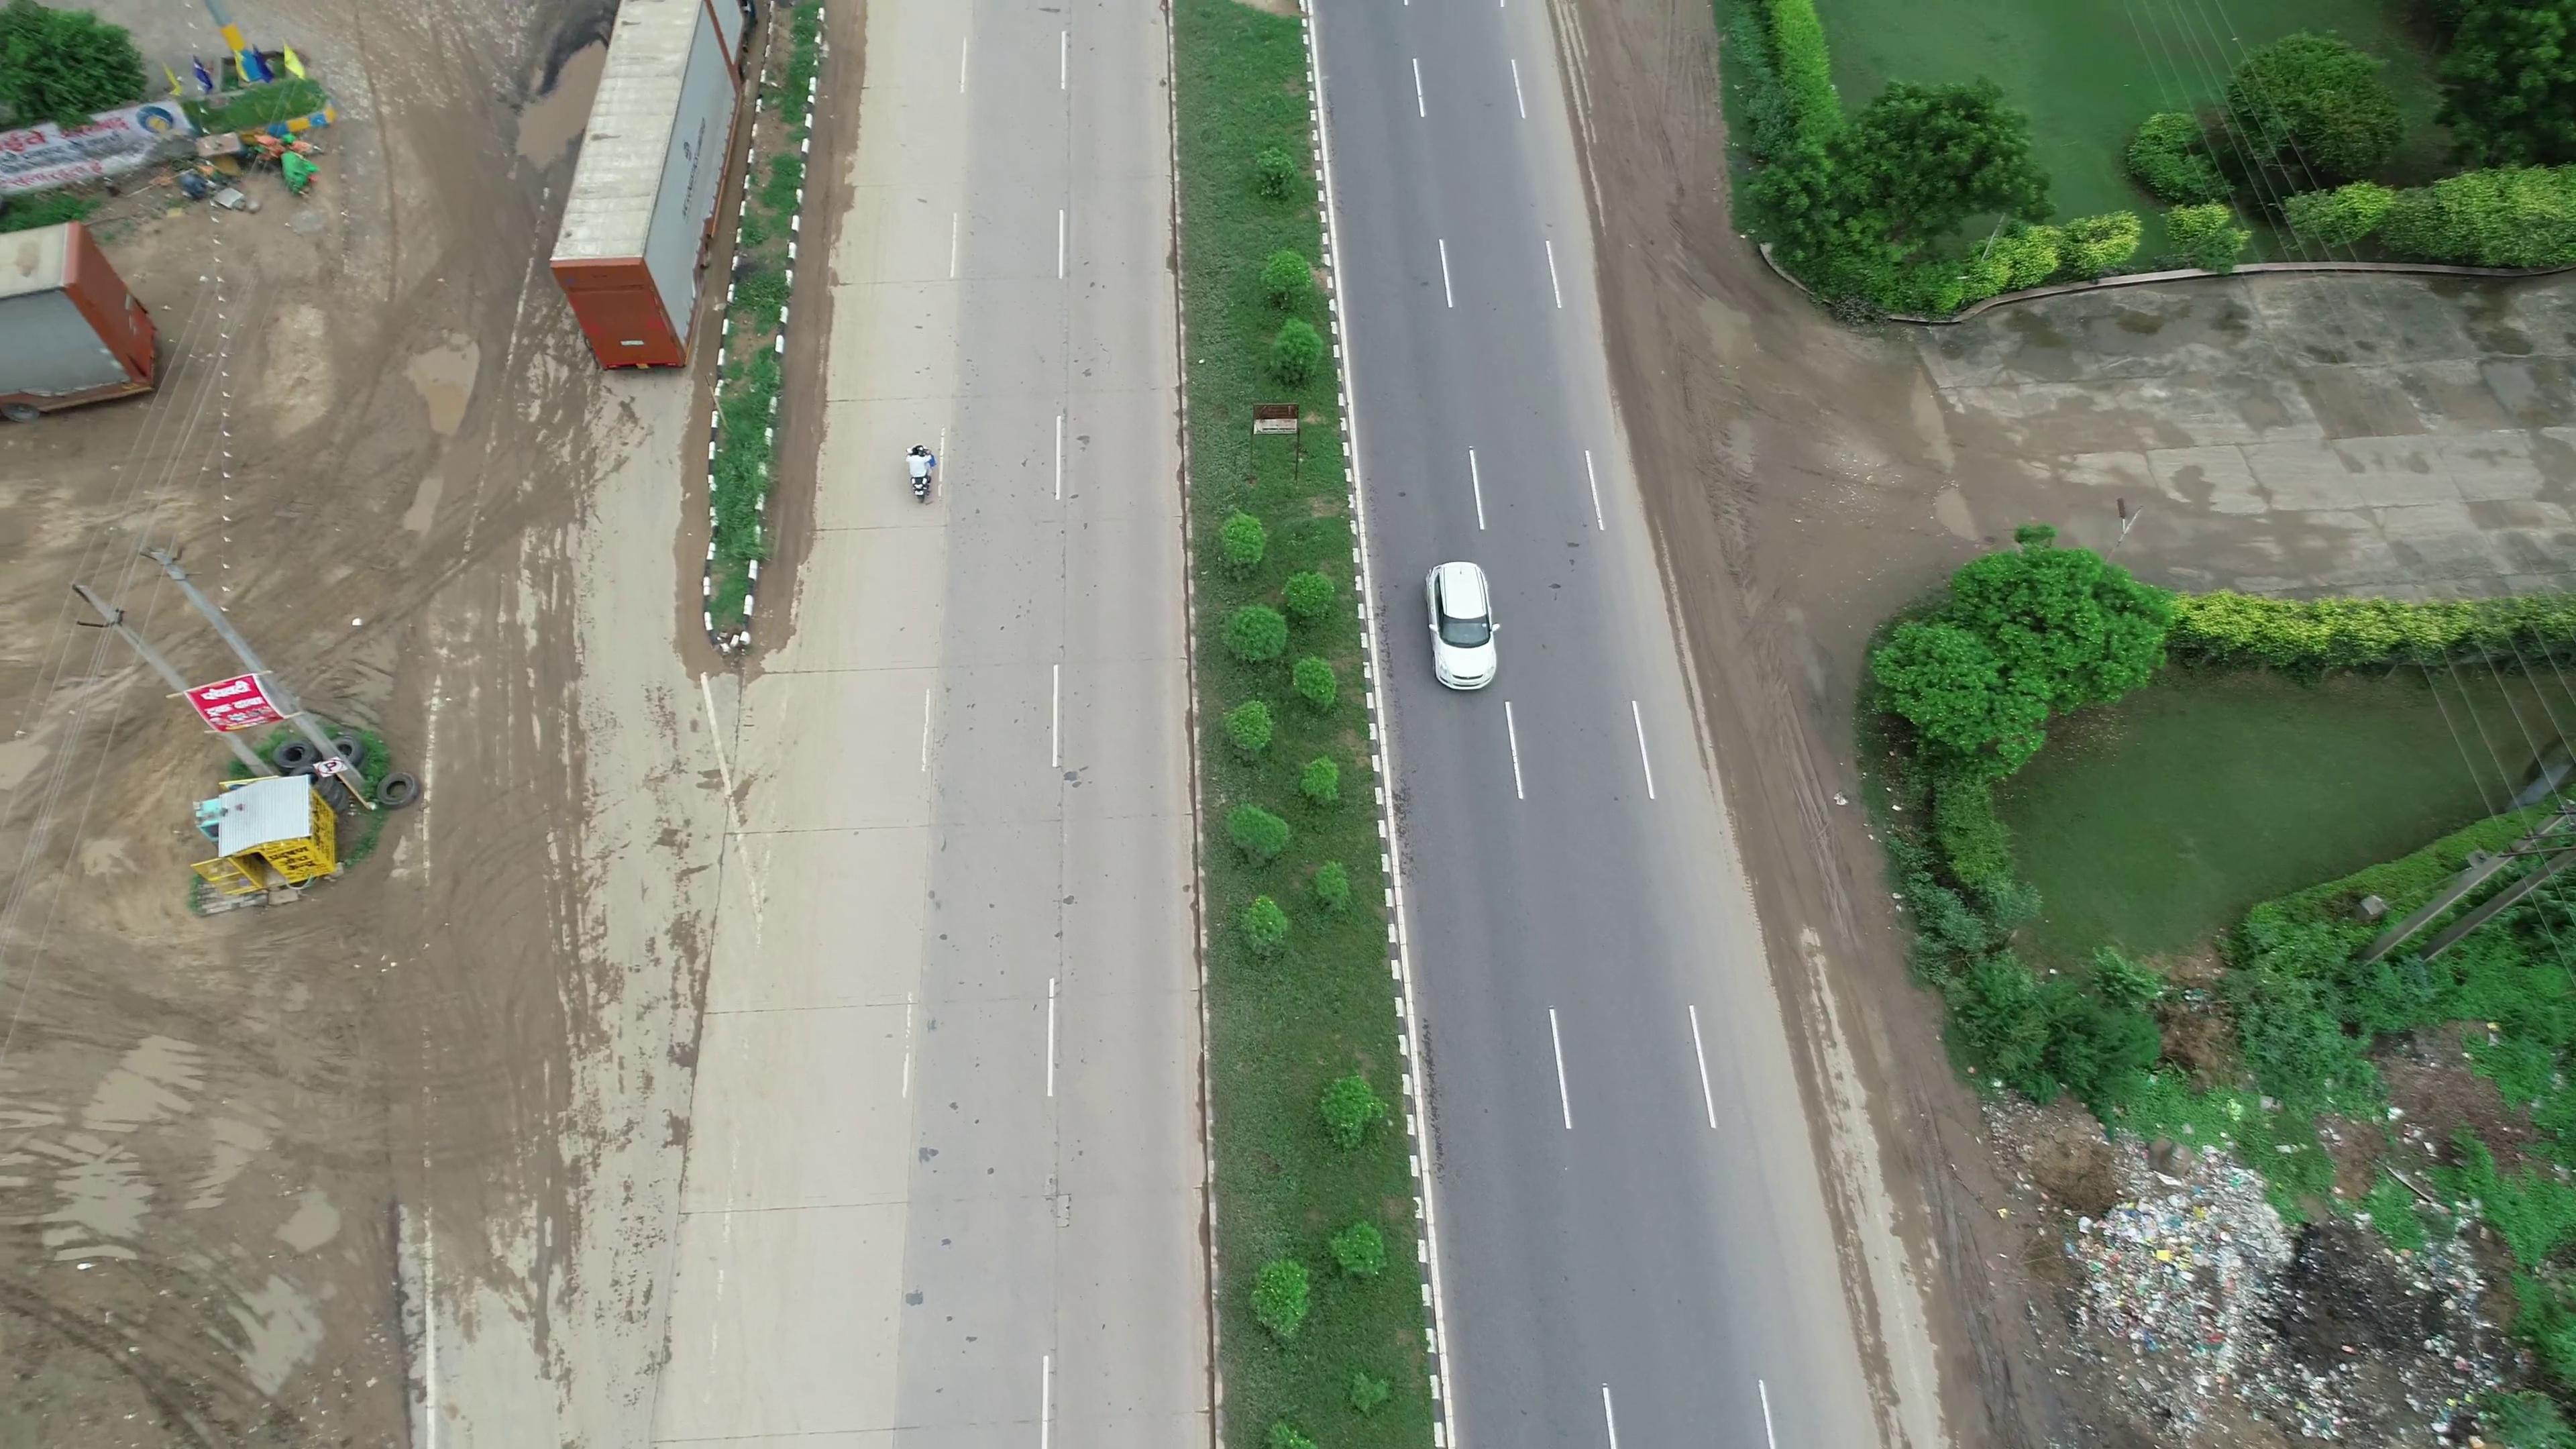Muddy_road: (1621, 216, 1858, 688)
